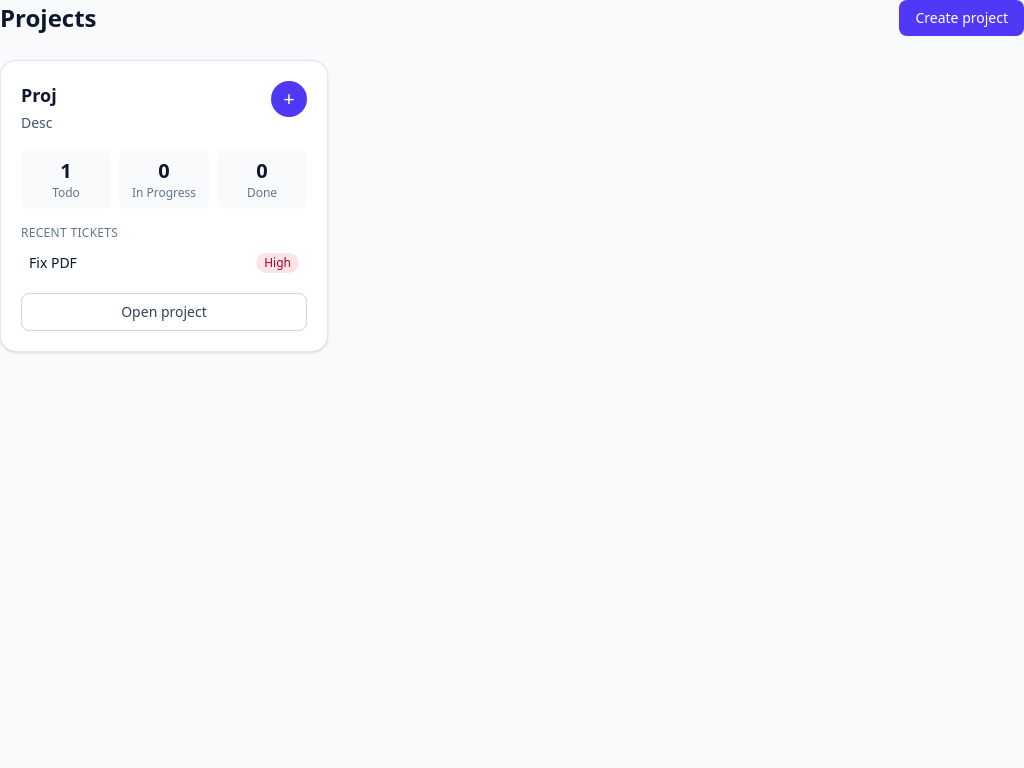
Scenario: dashboard reflects saved state without a manual refresh › updates counts after creating a ticket from the + action
Expected: the text "1" is shown, [60,157,72,184]
Step 1. Click the button named "Create ticket in Proj" → [289, 99], box [271,81,307,117]
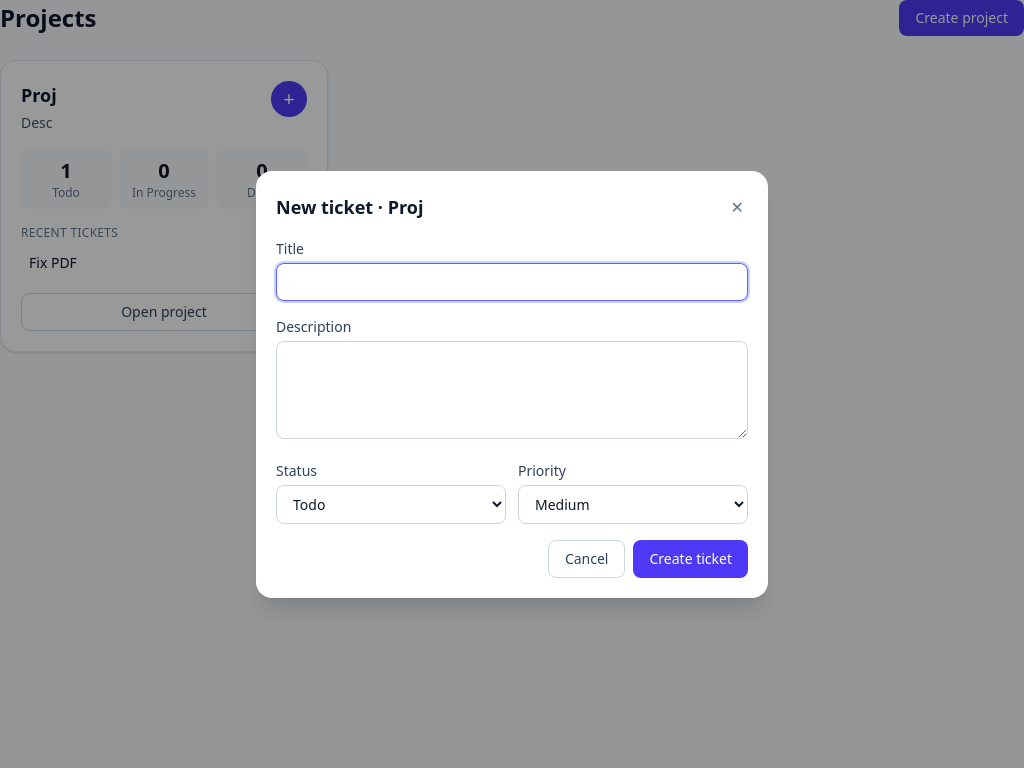
Step 2. Type "Brand new" into the field labelled "Title" → [512, 282], box [276,262,748,300]
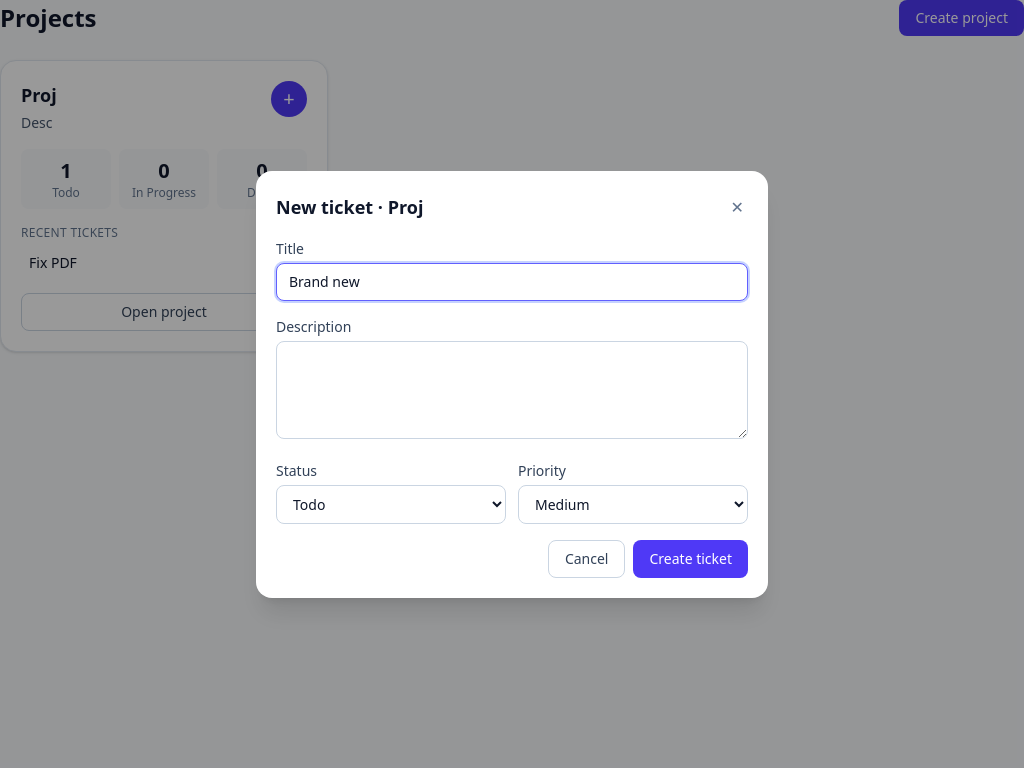
Step 3. Click the button "Create ticket" → [691, 558], box [634,540,748,578]
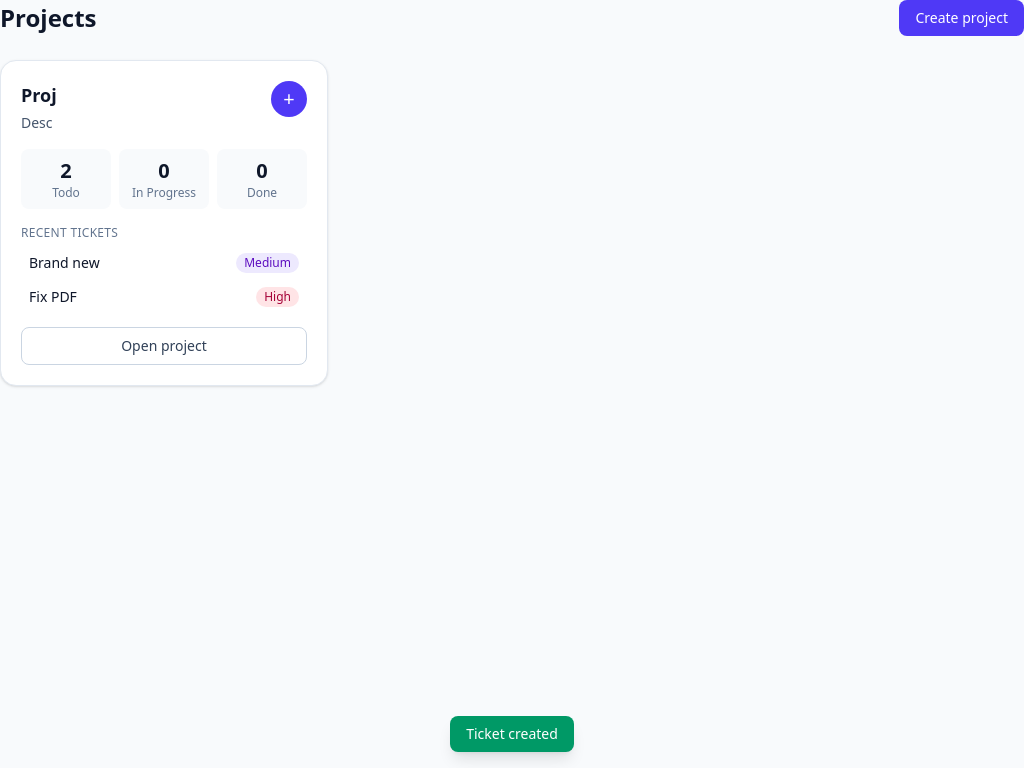
Expected: the text "2" is shown, [60,157,72,184]
Expected: the text "Brand new" is shown, [29,253,100,273]
